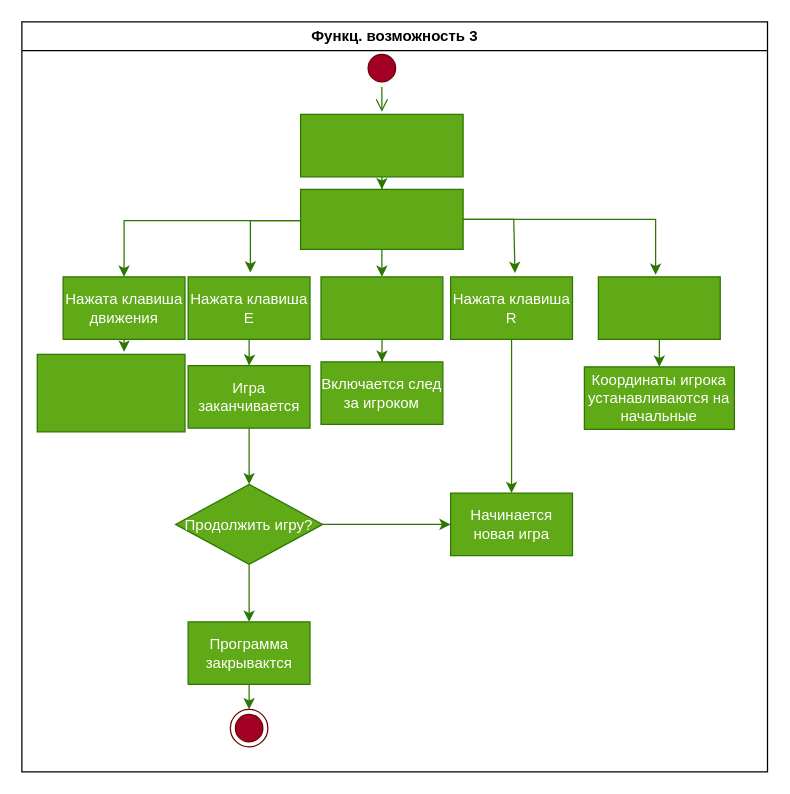
The diagram is 790 pixels wide and 794 high, and some of its shapes have lost their labels. The shapes that lost their labels are listed below. From the top down, each one's centre as x and y in pixels, then its label:
At point 381,145: "Нажатие на клавишу".
At point 381,218: "Вызов метода key_pressed".
At point 381,307: "Нажата клавиша T".
At point 658,307: "Нажата клавиша C".
At point 110,392: "Вызван метод click_{RIGHT | DOWN | UP | LEFT}".
